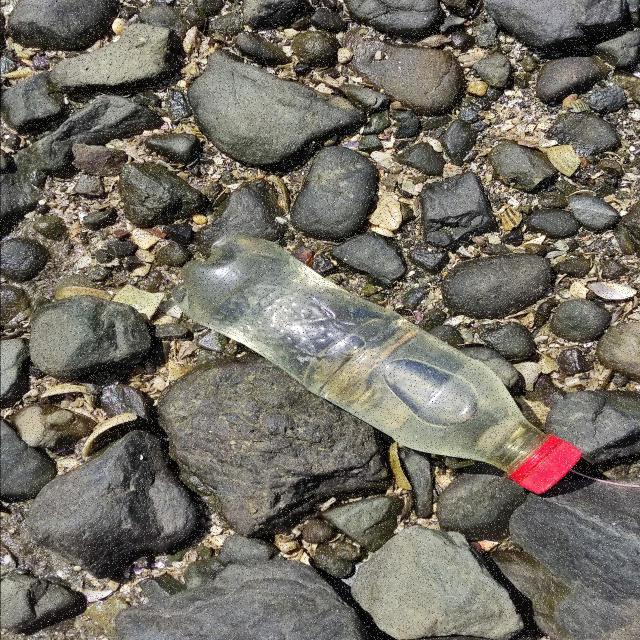plastic_waste: (170, 233, 587, 497)
